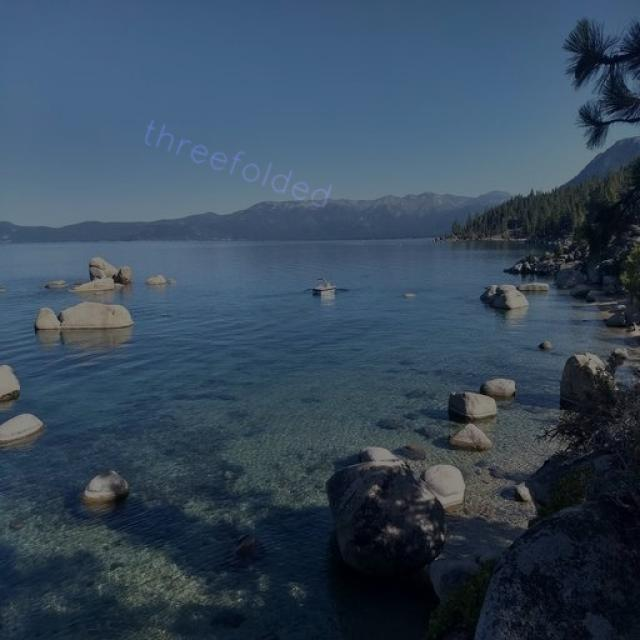watermark: (130, 114, 352, 215)
